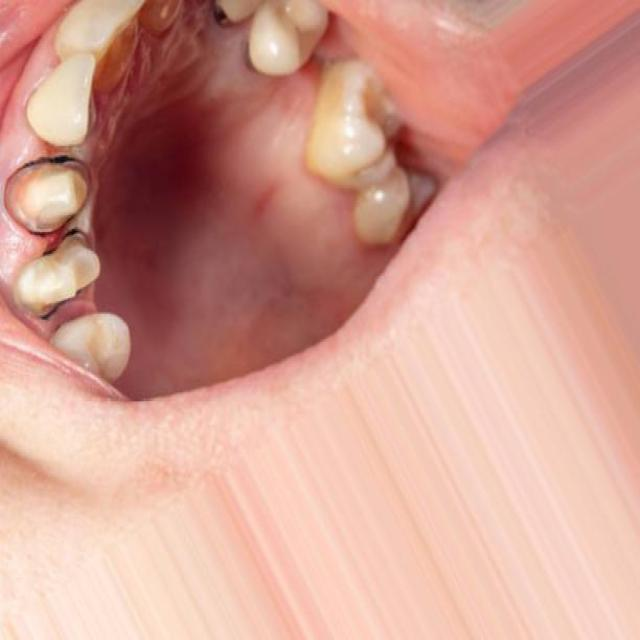caries: (354, 65, 438, 185), (10, 242, 101, 319), (3, 157, 88, 236)
